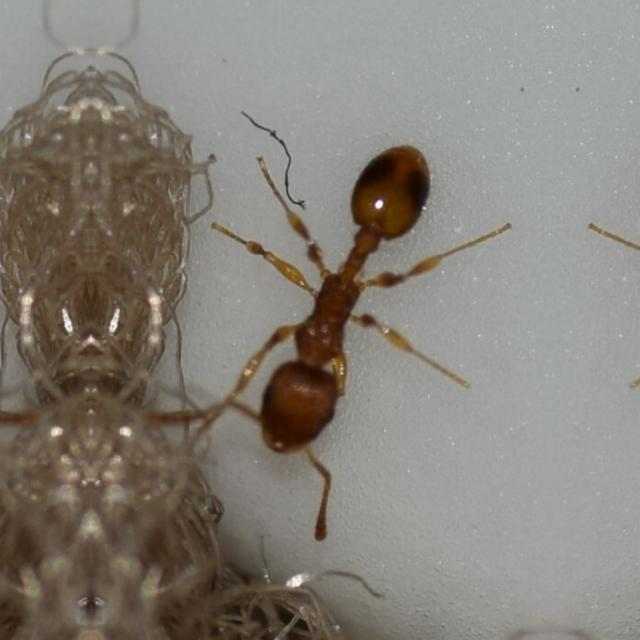Temnothorax: (212, 111, 458, 497)
